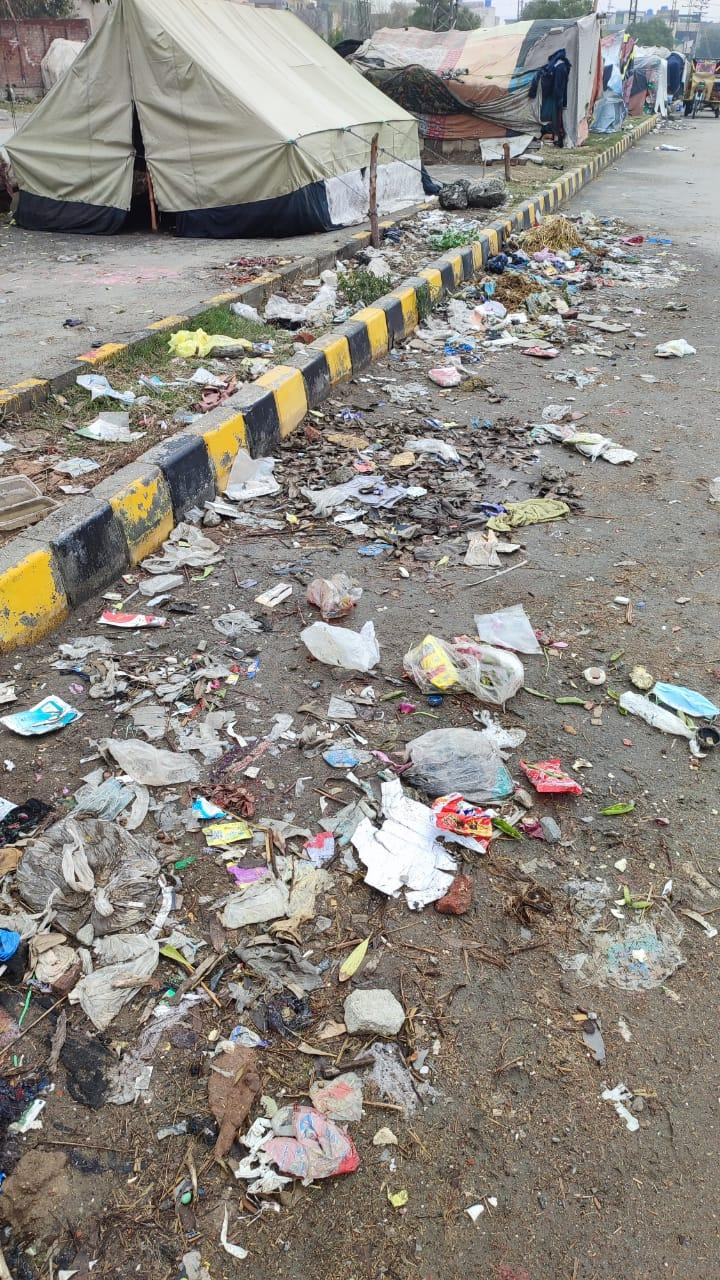garbage: (5, 364, 547, 1241)
